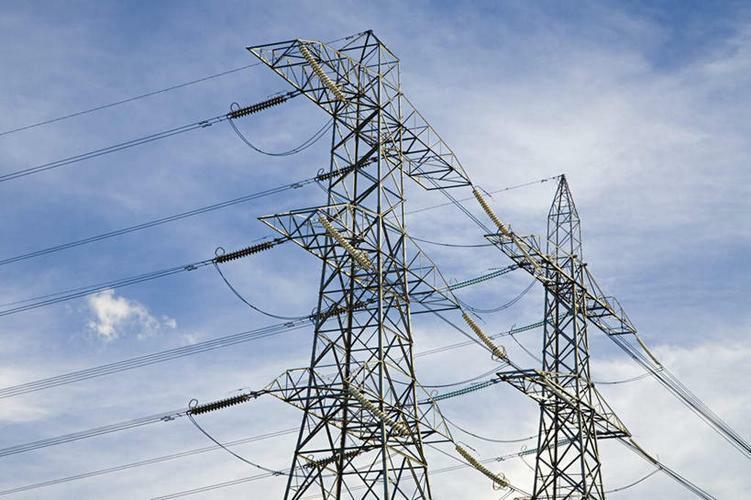power_tower: (241, 21, 472, 500), (480, 156, 659, 500)
